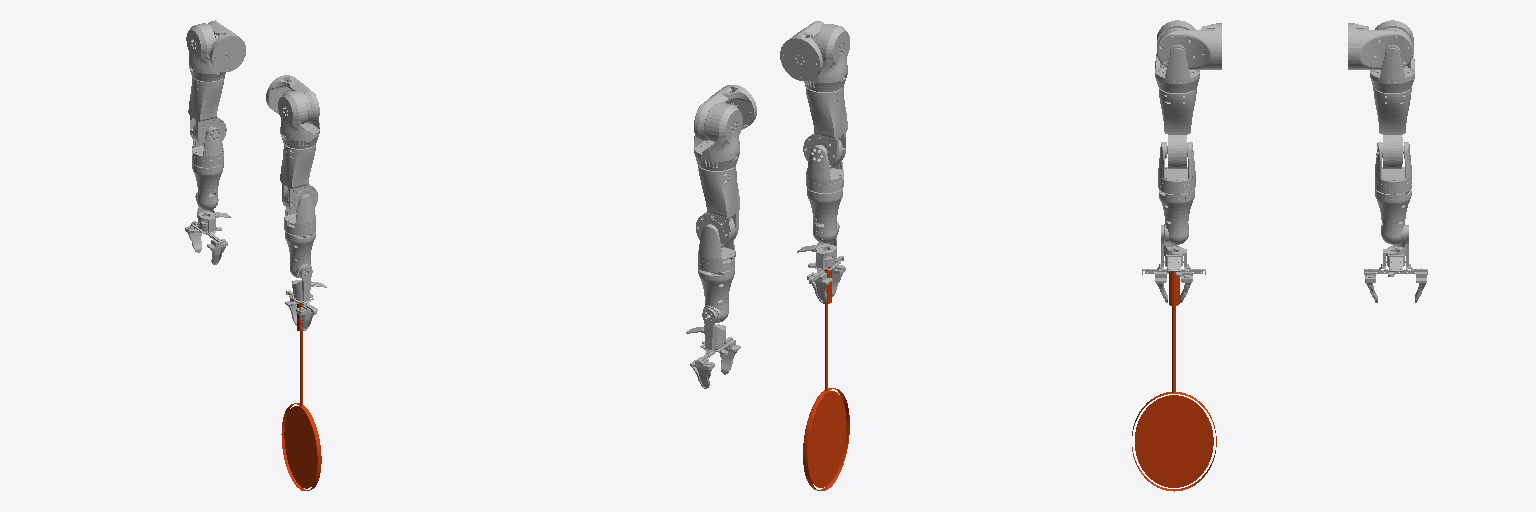
robot.urdf — armWithStand:
<?xml version="1.0" encoding="utf-8"?>
<!-- This URDF was automatically created by SolidWorks to URDF Exporter! Originally created by Stephen Brawner (brawner@gmail.com) 
     Commit Version: 1.6.0-4-g7f85cfe  Build Version: 1.6.7995.38578
     For more information, please see http://wiki.ros.org/sw_urdf_exporter -->
<robot
  name="armWithStand">
<mujoco><compiler balanceinertia="true" discardvisual="false"/></mujoco>
  <link
    name="base_link">
    <inertial>
      <origin
        xyz="0.0240465911838387 -0.00119381439562366 -0.579938635007463"
        rpy="0 0 0" />
      <mass
        value="9.28496121711128" />
      <inertia
        ixx="0.445177785928144"
        ixy="1.58136251301229E-07"
        ixz="-2.73741593886263E-06"
        iyy="0.43540321740852"
        iyz="4.14139393064407E-07"
        izz="0.0373345247622536" />
    </inertial>
    <visual>
      <origin
        xyz="0 0 0"
        rpy="0 0 0" />
      <geometry>
        <mesh
          filename="../../Humanoid_Wato/wato_arm_v2/meshes/base_link.STL" />
      </geometry>
      <material
        name="">
        <color
          rgba="0.752941176470588 0.752941176470588 0.752941176470588 1" />
      </material>
    </visual>
    <collision>
      <origin
        xyz="0 0 0"
        rpy="0 0 0" />
      <geometry>
        <mesh
          filename="../../Humanoid_Wato/wato_arm_v2/meshes/base_link.STL" />
      </geometry>
    </collision>
  </link>
  <link
    name="link1">
    <inertial>
      <origin
        xyz="0.00656892777886122 -0.0774448618020812 4.35649645926794E-05"
        rpy="0 0 0" />
      <mass
        value="0.880686284722837" />
      <inertia
        ixx="0.00211404619008881"
        ixy="0.000178943090065762"
        ixz="1.70625660744596E-06"
        iyy="0.00112204599482743"
        iyz="-1.57114173279083E-06"
        izz="0.00173722392544045" />
    </inertial>
    <visual>
      <origin
        xyz="0 0 0"
        rpy="0 0 0" />
      <geometry>
        <mesh
          filename="../../Humanoid_Wato/wato_arm_v2/meshes/link1.STL" />
      </geometry>
      <material
        name="">
        <color
          rgba="0.752941176470588 0.752941176470588 0.752941176470588 1" />
      </material>
    </visual>
    <collision>
      <origin
        xyz="0 0 0"
        rpy="0 0 0" />
      <geometry>
        <mesh
          filename="../../Humanoid_Wato/wato_arm_v2/meshes/link1.STL" />
      </geometry>
    </collision>
  </link>
  <joint
    name="joint1"
    type="revolute">
    <origin
      xyz="0.023038 -0.1633 0.0175"
      rpy="0 0 0" />
    <parent
      link="base_link" />
    <child
      link="link1" />
    <axis
      xyz="0 1 0" />
    <limit lower="-2.8" upper="0.6" effort="53.0" velocity="0" />
        <dynamics damping="0.1" />
  </joint>
  <link
    name="link2">
    <inertial>
      <origin
        xyz="0.0226409324077538 -4.83004338934223E-05 -0.0456182253344024"
        rpy="0 0 0" />
      <mass
        value="0.524797758723582" />
      <inertia
        ixx="0.00137005099117971"
        ixy="2.52458760715616E-06"
        ixz="0.000262439334892762"
        iyy="0.00125797775963587"
        iyz="-2.57496249453735E-07"
        izz="0.000889484097722237" />
    </inertial>
    <visual>
      <origin
        xyz="0 0 0"
        rpy="0 0 0" />
      <geometry>
        <mesh
          filename="../../Humanoid_Wato/wato_arm_v2/meshes/link2.STL" />
      </geometry>
      <material
        name="">
        <color
          rgba="0.752941176470588 0.752941176470588 0.752941176470588 1" />
      </material>
    </visual>
    <collision>
      <origin
        xyz="0 0 0"
        rpy="0 0 0" />
      <geometry>
        <mesh
          filename="../../Humanoid_Wato/wato_arm_v2/meshes/link2.STL" />
      </geometry>
    </collision>
  </link>
  <joint
    name="joint2"
    type="revolute">
    <origin
      xyz="-0.043021 -0.116 0"
      rpy="0 0 0" />
    <parent
      link="link1" />
    <child
      link="link2" />
    <axis
      xyz="1 0 0" />
    <limit lower="-2.2" upper="0.9" effort="53.0" velocity="0" />
        <dynamics damping="0.1" />
  </joint>
  <link
    name="link3">
    <inertial>
      <origin
        xyz="-0.00598357023935897 0.000141304695561895 -0.0990878666908477"
        rpy="0 0 0" />
      <mass
        value="0.617876376308592" />
      <inertia
        ixx="0.00251173914408603"
        ixy="-2.34051590978776E-06"
        ixz="-2.58426053625805E-05"
        iyy="0.0028873619510551"
        iyz="-4.40908730682744E-05"
        izz="0.000536706635939588" />
    </inertial>
    <visual>
      <origin
        xyz="0 0 0"
        rpy="0 0 0" />
      <geometry>
        <mesh
          filename="../../Humanoid_Wato/wato_arm_v2/meshes/link3.STL" />
      </geometry>
      <material
        name="">
        <color
          rgba="0.752941176470588 0.752941176470588 0.752941176470588 1" />
      </material>
    </visual>
    <collision>
      <origin
        xyz="0 0 0"
        rpy="0 0 0" />
      <geometry>
        <mesh
          filename="../../Humanoid_Wato/wato_arm_v2/meshes/link3.STL" />
      </geometry>
    </collision>
  </link>
  <joint
    name="joint3"
    type="revolute">
    <origin
      xyz="0.036 0 -0.1163"
      rpy="0 0 0" />
    <parent
      link="link2" />
    <child
      link="link3" />
    <axis
      xyz="0 0 -1" />
    <limit lower="-1.6" upper="1.6" effort="22.0" velocity="0" />
        <dynamics damping="0.1" />
  </joint>
  <link
    name="link4">
    <inertial>
      <origin
        xyz="0.000589780866343222 -0.0270042608962777 -0.0534086548301914"
        rpy="0 0 0" />
      <mass
        value="0.23609972799013" />
      <inertia
        ixx="0.000374896268749319"
        ixy="2.0114941331414E-06"
        ixz="4.67080005222902E-06"
        iyy="0.000236745756975199"
        iyz="-7.16659840503682E-07"
        izz="0.000331869493061915" />
    </inertial>
    <visual>
      <origin
        xyz="0 0 0"
        rpy="0 0 0" />
      <geometry>
        <mesh
          filename="../../Humanoid_Wato/wato_arm_v2/meshes/link4.STL" />
      </geometry>
      <material
        name="">
        <color
          rgba="0.752941176470588 0.752941176470588 0.752941176470588 1" />
      </material>
    </visual>
    <collision>
      <origin
        xyz="0 0 0"
        rpy="0 0 0" />
      <geometry>
        <mesh
          filename="../../Humanoid_Wato/wato_arm_v2/meshes/link4.STL" />
      </geometry>
    </collision>
  </link>
  <joint
    name="joint4"
    type="revolute">
    <origin
      xyz="0 0.02525 -0.1846"
      rpy="0 0 0" />
    <parent
      link="link3" />
    <child
      link="link4" />
    <axis
      xyz="0 -1 0" />
    <limit lower="-0.1" upper="2.4" effort="22.0" velocity="0" />
        <dynamics damping="0.1" />
  </joint>
  <link
    name="link5">
    <inertial>
      <origin
        xyz="-6.78957119078383E-05 0.00286491111678866 -0.0734829534285805"
        rpy="0 0 0" />
      <mass
        value="0.258486488949645" />
      <inertia
        ixx="0.000684117464250573"
        ixy="8.82875227148232E-08"
        ixz="6.11151359704886E-07"
        iyy="0.000762751506206543"
        iyz="1.01432137719565E-05"
        izz="0.00019079340967795" />
    </inertial>
    <visual>
      <origin
        xyz="0 0 0"
        rpy="0 0 0" />
      <geometry>
        <mesh
          filename="../../Humanoid_Wato/wato_arm_v2/meshes/link5.STL" />
      </geometry>
      <material
        name="">
        <color
          rgba="0.752941176470588 0.752941176470588 0.752941176470588 1" />
      </material>
    </visual>
    <collision>
      <origin
        xyz="0 0 0"
        rpy="0 0 0" />
      <geometry>
        <mesh
          filename="../../Humanoid_Wato/wato_arm_v2/meshes/link5.STL" />
      </geometry>
    </collision>
  </link>
  <joint
    name="joint5"
    type="revolute">
    <origin
      xyz="0 -0.0275 -0.1075"
      rpy="0 0 0" />
    <parent
      link="link4" />
    <child
      link="link5" />
    <axis
      xyz="0 0 1" />
    <limit lower="-2.0" upper="2.0" effort="22.0" velocity="0" />
        <dynamics damping="0.05" />
  </joint>
  <link
    name="link6">
    <inertial>
      <origin
        xyz="0.00240815388409115 0.0195616885246606 -0.0643219245330834"
        rpy="0 0 0" />
      <mass
        value="0.120420205315175" />
      <inertia
        ixx="0.000106661288483187"
        ixy="-4.6967731619787E-06"
        ixz="4.16171284294191E-06"
        iyy="7.61032549163884E-05"
        iyz="1.75230255432292E-05"
        izz="9.69195737112295E-05" />
    </inertial>
    <visual>
      <origin
        xyz="0 0 0"
        rpy="0 0 0" />
      <geometry>
        <mesh
          filename="../../Humanoid_Wato/wato_arm_v2/meshes/link6.STL" />
      </geometry>
      <material
        name="">
        <color
          rgba="0.752941176470588 0.752941176470588 0.752941176470588 1" />
      </material>
    </visual>
    <collision>
      <origin
        xyz="0 0 0"
        rpy="0 0 0" />
      <geometry>
        <mesh
          filename="../../Humanoid_Wato/wato_arm_v2/meshes/link6.STL" />
      </geometry>
    </collision>
  </link>
  <joint
    name="joint6"
    type="revolute">
    <origin
      xyz="0 -0.0325 -0.128"
      rpy="0 0 0" />
    <parent
      link="link5" />
    <child
      link="link6" />
    <axis
      xyz="0 -1 0" />
    <limit lower="-2.0" upper="2.0" effort="0.73" velocity="0" />
        <dynamics damping="0.02" />
  </joint>
  <link
    name="link7">
    <inertial>
      <origin
        xyz="-0.00206129891803919 -0.0128355314532572 -0.022223309329361"
        rpy="0 0 0" />
      <mass
        value="0.0372930675071662" />
      <inertia
        ixx="1.5152927623881E-05"
        ixy="6.69248668152572E-09"
        ixz="-4.79077370376869E-07"
        iyy="1.98339939405838E-05"
        iyz="2.61463007811667E-06"
        izz="9.05266779355034E-06" />
    </inertial>
    <visual>
      <origin
        xyz="0 0 0"
        rpy="0 0 0" />
      <geometry>
        <mesh
          filename="../../Humanoid_Wato/wato_arm_v2/meshes/link7.STL" />
      </geometry>
      <material
        name="">
        <color
          rgba="0.752941176470588 0.752941176470588 0.752941176470588 1" />
      </material>
    </visual>
    <collision>
      <origin
        xyz="0 0 0"
        rpy="0 0 0" />
      <geometry>
        <mesh
          filename="../../Humanoid_Wato/wato_arm_v2/meshes/link7.STL" />
      </geometry>
    </collision>
  </link>
  <joint name="joint7" type="fixed">
        <origin xyz="0 0.0062 -0.11656" rpy="0 0 0" />
        <parent link="link6" />
        <child link="link7" />
    </joint>
  <link
    name="link8">
    <inertial>
      <origin
        xyz="0.00206129891870067 0.0128355314603838 -0.0222233093303864"
        rpy="0 0 0" />
      <mass
        value="0.0372930675242194" />
      <inertia
        ixx="1.51529276254904E-05"
        ixy="6.6924852015877E-09"
        ixz="4.79077372021123E-07"
        iyy="1.9833993936431E-05"
        iyz="-2.61463007872616E-06"
        izz="9.05266779209366E-06" />
    </inertial>
    <visual>
      <origin
        xyz="0 0 0"
        rpy="0 0 0" />
      <geometry>
        <mesh
          filename="../../Humanoid_Wato/wato_arm_v2/meshes/link8.STL" />
      </geometry>
      <material
        name="">
        <color
          rgba="0.752941176470588 0.752941176470588 0.752941176470588 1" />
      </material>
    </visual>
    <collision>
      <origin
        xyz="0 0 0"
        rpy="0 0 0" />
      <geometry>
        <mesh
          filename="../../Humanoid_Wato/wato_arm_v2/meshes/link8.STL" />
      </geometry>
    </collision>
  </link>
  <joint name="joint8" type="fixed">
        <origin xyz="0 0.0448 -0.11656" rpy="0 0 0" />
        <parent link="link6" />
        <child link="link8" />
    </joint>
  <link
    name="link1L">
    <inertial>
      <origin
        xyz="0.00656947969267134 0.0774446941194176 4.43989899392427E-05"
        rpy="0 0 0" />
      <mass
        value="0.880696012321257" />
      <inertia
        ixx="0.00211405903813564"
        ixy="-0.000178951636959864"
        ixz="1.65959627695689E-06"
        iyy="0.00112205426841718"
        iyz="1.56887735279295E-06"
        izz="0.00173723862167167" />
    </inertial>
    <visual>
      <origin
        xyz="0 0 0"
        rpy="0 0 0" />
      <geometry>
        <mesh
          filename="../../Humanoid_Wato/wato_arm_v2/meshes/link1L.STL" />
      </geometry>
      <material
        name="">
        <color
          rgba="0.752941176470588 0.752941176470588 0.752941176470588 1" />
      </material>
    </visual>
    <collision>
      <origin
        xyz="0 0 0"
        rpy="0 0 0" />
      <geometry>
        <mesh
          filename="../../Humanoid_Wato/wato_arm_v2/meshes/link1L.STL" />
      </geometry>
    </collision>
  </link>
  <joint
    name="joint1L"
    type="revolute">
    <origin
      xyz="0.023038 0.1633 0.0175"
      rpy="0 0 0" />
    <parent
      link="base_link" />
    <child
      link="link1L" />
    <axis
      xyz="0 -1 0" />
    <limit
      lower="0"
      upper="0"
      effort="0"
      velocity="0" />
  </joint>
  <link
    name="link2l">
    <inertial>
      <origin
        xyz="-0.0113592614958186 4.82386027650938E-05 -0.0456181165667688"
        rpy="0 0 0" />
      <mass
        value="0.524798988398382" />
      <inertia
        ixx="0.0013700517207607"
        ixy="-2.52083730253302E-06"
        ixz="0.000262436488548804"
        iyy="0.00125796246592663"
        iyz="2.4490492232033E-07"
        izz="0.00088947401892908" />
    </inertial>
    <visual>
      <origin
        xyz="0 0 0"
        rpy="0 0 0" />
      <geometry>
        <mesh
          filename="../../Humanoid_Wato/wato_arm_v2/meshes/link2l.STL" />
      </geometry>
      <material
        name="">
        <color
          rgba="0.752941176470588 0.752941176470588 0.752941176470588 1" />
      </material>
    </visual>
    <collision>
      <origin
        xyz="0 0 0"
        rpy="0 0 0" />
      <geometry>
        <mesh
          filename="../../Humanoid_Wato/wato_arm_v2/meshes/link2l.STL" />
      </geometry>
    </collision>
  </link>
  <joint
    name="joint2l"
    type="revolute">
    <origin
      xyz="-0.0090208 0.116 0"
      rpy="0 0 0" />
    <parent
      link="link1L" />
    <child
      link="link2l" />
    <axis
      xyz="1 0 0" />
    <limit
      lower="0"
      upper="0"
      effort="0"
      velocity="0" />
  </joint>
  <link
    name="link3l">
    <inertial>
      <origin
        xyz="-0.00598332117856218 -0.000141528958987336 -0.0980884072329598"
        rpy="0 0 0" />
      <mass
        value="0.617868542940862" />
      <inertia
        ixx="0.00251173249264193"
        ixy="2.34133245219122E-06"
        ixz="-2.58450717241319E-05"
        iyy="0.00288735344621433"
        iyz="4.40889936363045E-05"
        izz="0.000536703804085851" />
    </inertial>
    <visual>
      <origin
        xyz="0 0 0"
        rpy="0 0 0" />
      <geometry>
        <mesh
          filename="../../Humanoid_Wato/wato_arm_v2/meshes/link3l.STL" />
      </geometry>
      <material
        name="">
        <color
          rgba="0.752941176470588 0.752941176470588 0.752941176470588 1" />
      </material>
    </visual>
    <collision>
      <origin
        xyz="0 0 0"
        rpy="0 0 0" />
      <geometry>
        <mesh
          filename="../../Humanoid_Wato/wato_arm_v2/meshes/link3l.STL" />
      </geometry>
    </collision>
  </link>
  <joint
    name="joint3l"
    type="revolute">
    <origin
      xyz="0.002 0 -0.1173"
      rpy="0 0 0" />
    <parent
      link="link2l" />
    <child
      link="link3l" />
    <axis
      xyz="0 0 -1" />
    <limit
      lower="0"
      upper="0"
      effort="0"
      velocity="0" />
  </joint>
  <link
    name="link4l">
    <inertial>
      <origin
        xyz="0.000589678856960876 0.0270042999845482 -0.0534086986094791"
        rpy="0 0 0" />
      <mass
        value="0.23609959618405" />
      <inertia
        ixx="0.000374896178399617"
        ixy="-2.01083261967832E-06"
        ixz="4.67089648036629E-06"
        iyy="0.000236745167545953"
        iyz="7.16455690670964E-07"
        izz="0.000331869395417314" />
    </inertial>
    <visual>
      <origin
        xyz="0 0 0"
        rpy="0 0 0" />
      <geometry>
        <mesh
          filename="../../Humanoid_Wato/wato_arm_v2/meshes/link4l.STL" />
      </geometry>
      <material
        name="">
        <color
          rgba="0.752941176470588 0.752941176470588 0.752941176470588 1" />
      </material>
    </visual>
    <collision>
      <origin
        xyz="0 0 0"
        rpy="0 0 0" />
      <geometry>
        <mesh
          filename="../../Humanoid_Wato/wato_arm_v2/meshes/link4l.STL" />
      </geometry>
    </collision>
  </link>
  <joint
    name="joint4l"
    type="revolute">
    <origin
      xyz="0 -0.02525 -0.1836"
      rpy="0 0 0" />
    <parent
      link="link3l" />
    <child
      link="link4l" />
    <axis
      xyz="0 1 0" />
    <limit
      lower="0"
      upper="0"
      effort="0"
      velocity="0" />
  </joint>
  <link
    name="link5l">
    <inertial>
      <origin
        xyz="-6.77199540099396E-05 -0.00286488569650539 -0.0545409427124758"
        rpy="0 0 0" />
      <mass
        value="0.258485955160447" />
      <inertia
        ixx="0.000684117866224987"
        ixy="-8.66685925255963E-08"
        ixz="6.14551093237562E-07"
        iyy="0.00076275065784088"
        iyz="-1.01434545103104E-05"
        izz="0.000190793580731347" />
    </inertial>
    <visual>
      <origin
        xyz="0 0 0"
        rpy="0 0 0" />
      <geometry>
        <mesh
          filename="../../Humanoid_Wato/wato_arm_v2/meshes/link5l.STL" />
      </geometry>
      <material
        name="">
        <color
          rgba="0.752941176470588 0.752941176470588 0.752941176470588 1" />
      </material>
    </visual>
    <collision>
      <origin
        xyz="0 0 0"
        rpy="0 0 0" />
      <geometry>
        <mesh
          filename="../../Humanoid_Wato/wato_arm_v2/meshes/link5l.STL" />
      </geometry>
    </collision>
  </link>
  <joint
    name="joint5l"
    type="revolute">
    <origin
      xyz="0 0.0275 -0.12644"
      rpy="0 0 0" />
    <parent
      link="link4l" />
    <child
      link="link5l" />
    <axis
      xyz="0 0 1" />
    <limit
      lower="0"
      upper="0"
      effort="0"
      velocity="0" />
  </joint>
  <link
    name="link6l">
    <inertial>
      <origin
        xyz="0.00240830619546668 -0.0285616969261764 -0.0643217893308751"
        rpy="0 0 0" />
      <mass
        value="0.120420993081643" />
      <inertia
        ixx="0.000106661652457855"
        ixy="4.69673982278871E-06"
        ixz="4.16161574971048E-06"
        iyy="7.61035825632696E-05"
        iyz="-1.7523097021025E-05"
        izz="9.69200268459357E-05" />
    </inertial>
    <visual>
      <origin
        xyz="0 0 0"
        rpy="0 0 0" />
      <geometry>
        <mesh
          filename="../../Humanoid_Wato/wato_arm_v2/meshes/link6l.STL" />
      </geometry>
      <material
        name="">
        <color
          rgba="0.752941176470588 0.752941176470588 0.752941176470588 1" />
      </material>
    </visual>
    <collision>
      <origin
        xyz="0 0 0"
        rpy="0 0 0" />
      <geometry>
        <mesh
          filename="../../Humanoid_Wato/wato_arm_v2/meshes/link6l.STL" />
      </geometry>
    </collision>
  </link>
  <joint
    name="joint6l"
    type="revolute">
    <origin
      xyz="0 0.0415 -0.10906"
      rpy="0 0 0" />
    <parent
      link="link5l" />
    <child
      link="link6l" />
    <axis
      xyz="0 1 0" />
    <limit
      lower="0"
      upper="0"
      effort="0"
      velocity="0" />
  </joint>
  <link
    name="link7l">
    <inertial>
      <origin
        xyz="-0.00206129119334706 0.0128353782534097 -0.0222237129178413"
        rpy="0 0 0" />
      <mass
        value="0.0372932517814181" />
      <inertia
        ixx="1.51535790105825E-05"
        ixy="-6.69742550259608E-09"
        ixz="-4.79101775761601E-07"
        iyy="1.98346098989165E-05"
        iyz="-2.61481815589837E-06"
        izz="9.05271675924182E-06" />
    </inertial>
    <visual>
      <origin
        xyz="0 0 0"
        rpy="0 0 0" />
      <geometry>
        <mesh
          filename="../../Humanoid_Wato/wato_arm_v2/meshes/link7l.STL" />
      </geometry>
      <material
        name="">
        <color
          rgba="0.752941176470588 0.752941176470588 0.752941176470588 1" />
      </material>
    </visual>
    <collision>
      <origin
        xyz="0 0 0"
        rpy="0 0 0" />
      <geometry>
        <mesh
          filename="../../Humanoid_Wato/wato_arm_v2/meshes/link7l.STL" />
      </geometry>
    </collision>
  </link>
  <joint
    name="joint7l"
    type="prismatic">
    <origin
      xyz="0 0.017158 -0.11656"
      rpy="0 0 0" />
    <parent
      link="link6l" />
    <child
      link="link7l" />
    <axis
      xyz="0 1 0" />
    <limit
      lower="0"
      upper="0"
      effort="0"
      velocity="0" />
  </joint>
  <link
    name="link8l">
    <inertial>
      <origin
        xyz="0.00206129096572792 -0.0128353781420719 -0.0222237134403697"
        rpy="0 0 0" />
      <mass
        value="0.0372932523815208" />
      <inertia
        ixx="1.51535794306452E-05"
        ixy="-6.69737672157971E-09"
        ixz="4.79101581088381E-07"
        iyy="1.98346103820658E-05"
        iyz="2.61481825546591E-06"
        izz="9.05271687943681E-06" />
    </inertial>
    <visual>
      <origin
        xyz="0 0 0"
        rpy="0 0 0" />
      <geometry>
        <mesh
          filename="../../Humanoid_Wato/wato_arm_v2/meshes/link8l.STL" />
      </geometry>
      <material
        name="">
        <color
          rgba="0.752941176470588 0.752941176470588 0.752941176470588 1" />
      </material>
    </visual>
    <collision>
      <origin
        xyz="0 0 0"
        rpy="0 0 0" />
      <geometry>
        <mesh
          filename="../../Humanoid_Wato/wato_arm_v2/meshes/link8l.STL" />
      </geometry>
    </collision>
  </link>
  <joint
    name="joint8l"
    type="prismatic">
    <origin
      xyz="0 -0.086158 -0.11656"
      rpy="0 0 0" />
    <parent
      link="link6l" />
    <child
      link="link8l" />
    <axis
      xyz="0 1 0" />
    <limit
      lower="0"
      upper="0"
      effort="0"
      velocity="0" />
  </joint>
    <!-- racket, held rigidly by the closed gripper (exported by
         stationary/scripts/export_assets.py; values from params.yaml).
         Racket frame: +y = shaft (grip to face), +z = face normal. -->
    <link name="racket">
    <inertial>
      <origin xyz="0 0.296667 0" rpy="1.5708 -1.5708 0" />
      <mass value="0.09" />
      <inertia ixx="0.00447413" ixy="0" ixz="0" iyy="0.00440285" iyz="0" izz="7.57921e-05" />
    </inertial>
        <visual>
            <origin xyz="0 0.45 0" rpy="0 0 0" />
            <geometry>
                <mesh filename="meshes/racket_vis.obj" scale="1 1 1" />
            </geometry>
            <material name="racket_orange">
                <color rgba="0.85 0.30 0.10 1" />
            </material>
        </visual>
        <collision>
            <origin xyz="0 -0.01 0" rpy="-1.5707963 0 0" />
            <geometry>
                <cylinder radius="0.0145" length="0.13" />
            </geometry>
        </collision>
        <collision>
            <origin xyz="0 0.45 0" rpy="0 0 0" />
            <geometry>
                <box size="0.12 0.15 0.012" />
            </geometry>
        </collision>
    </link>
    <joint name="racket_weld" type="fixed">
        <origin xyz="0.0 0.0255 -0.15" rpy="-1.570796 0 -1.570796" />
        <parent link="link6" />
        <child link="racket" />
    </joint>
</robot>

--- Render facts (derived) ---
3 views of the same robot in one strip: view 1: azimuth 30°, elevation 25°; view 2: azimuth 150°, elevation 25°; view 3: azimuth 270°, elevation 25° (orthographic).
Robot: armWithStand — 18 links, 17 joints (12 revolute, 2 prismatic, 3 fixed); root link base_link; default pose: every joint at zero.
Visible links, largest first — view 1: racket, link3, link3l, link2, link2l, link1L, link1, link5l, link4l, link4, link5, link6 (+1 smaller); view 2: racket, link3l, link3, link2l, link2, link1, link1L, link5, link4, link4l, link5l, link6l (+1 smaller); view 3: racket, link1L, link1, link3l, link3, link2l, link2, link5l, link5, link4, link4l, link6l (+1 smaller).
Boxes of the visible links, box(x1,y1,x2,y2) form: racket: box(281, 303, 321, 490); link3: box(280, 145, 317, 214); link3l: box(188, 77, 226, 146); link2: box(278, 90, 319, 148); link2l: box(186, 23, 225, 81); link1L: box(208, 20, 245, 71); link1: box(266, 75, 319, 123); link5l: box(192, 163, 223, 210); link4l: box(192, 126, 223, 167); link4: box(284, 194, 315, 235); link5: box(285, 231, 315, 278); link6: box(286, 264, 326, 314); racket: box(803, 256, 849, 490); link3l: box(696, 166, 739, 247); link3: box(803, 86, 847, 168); link2l: box(694, 102, 742, 170); link2: box(804, 24, 849, 91); link1: box(780, 21, 825, 80); link1L: box(694, 85, 756, 140); link5: box(807, 188, 842, 243); link4: box(806, 145, 843, 192); link4l: box(698, 224, 735, 272); link5l: box(698, 267, 734, 322); link6l: box(686, 306, 732, 365); racket: box(1132, 271, 1216, 491); link1L: box(1348, 23, 1413, 69); link1: box(1157, 23, 1221, 69); link3l: box(1373, 87, 1411, 168); link3: box(1159, 88, 1196, 168); link2l: box(1370, 20, 1414, 92); link2: box(1155, 20, 1199, 92); link5l: box(1375, 189, 1411, 244); link5: box(1159, 189, 1194, 244); link4: box(1158, 142, 1195, 194); link4l: box(1375, 142, 1411, 194); link6l: box(1364, 224, 1427, 276).
Bounding box of the posed robot: 0.1393 × 0.7719 × 1.34 m (x, y, z).
Meshes: 18 distinct files referenced, 17 mesh visuals loaded (16 binary STL, 1 OBJ); not drawn: 1 (reference not matched to a file when rendering).
